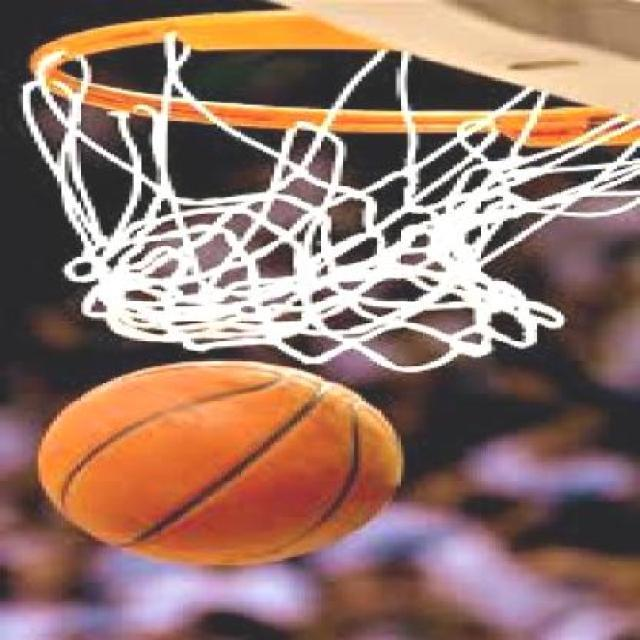Ball: (38, 362, 400, 566)
